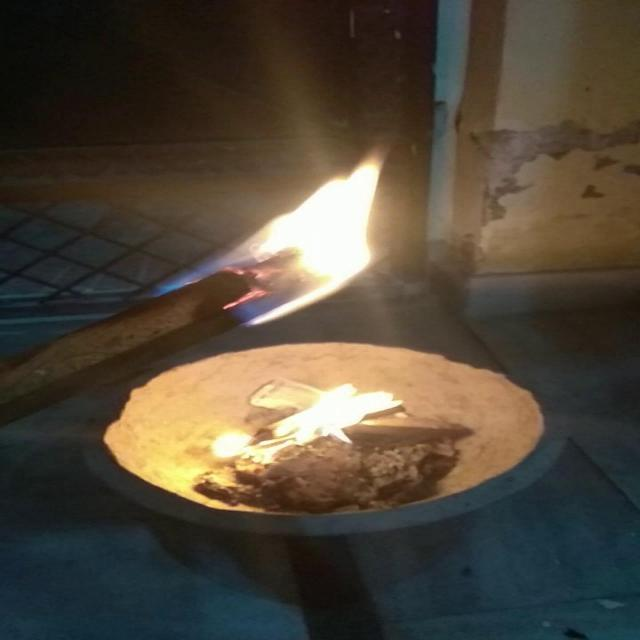fire: (159, 112, 413, 332), (217, 385, 389, 465)
